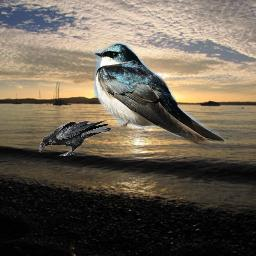Crow: (39, 120, 112, 156)
Swallow: (93, 42, 226, 146)
